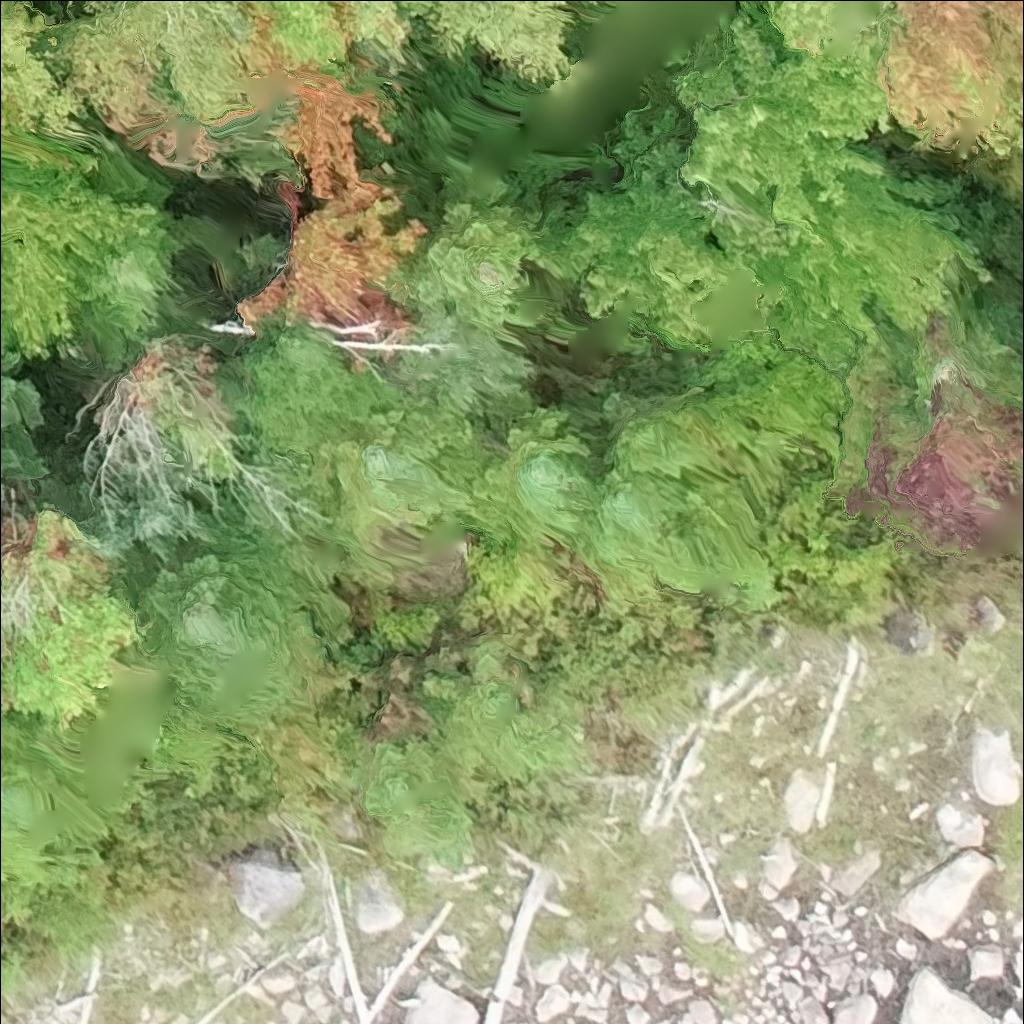crown: (678, 50, 895, 236), (535, 169, 739, 352), (113, 508, 312, 689), (0, 145, 165, 358), (235, 167, 435, 330), (0, 509, 144, 731), (75, 155, 188, 372), (393, 194, 552, 330), (455, 406, 599, 549), (31, 464, 216, 575), (272, 75, 395, 208), (581, 471, 707, 586), (0, 0, 93, 143), (0, 350, 52, 505)
